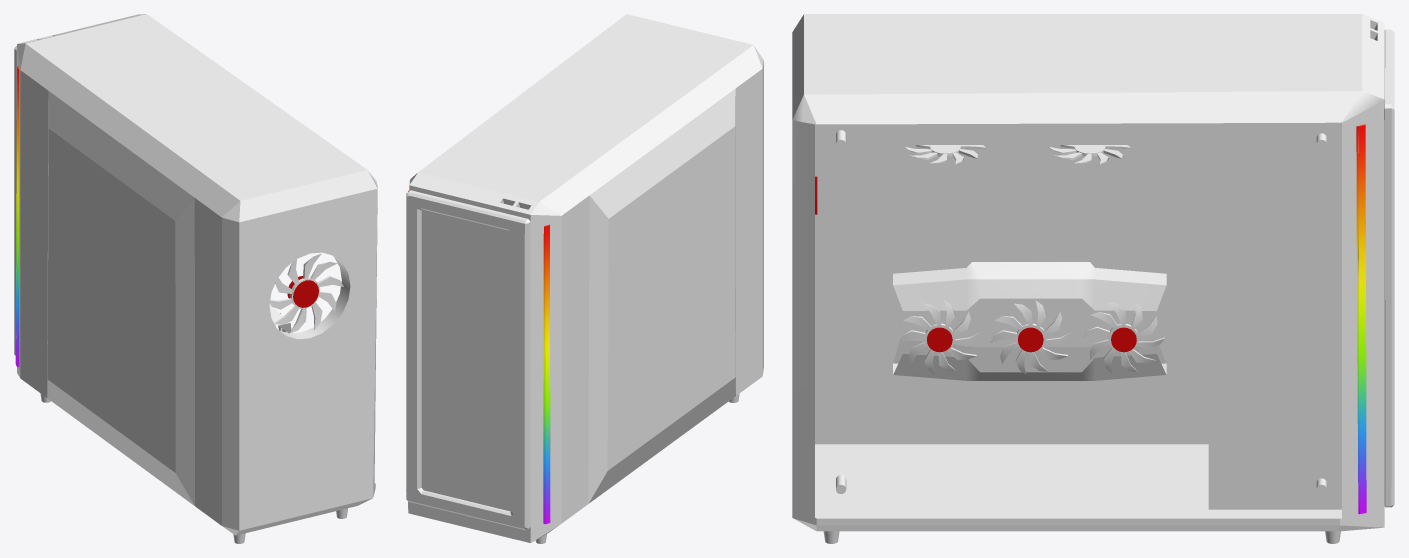
The model's file is chosen-cpu-case1.glb.
The picture shows the model from 3 angles, left to right: view 1: azimuth 30°, elevation 25°; view 2: azimuth 150°, elevation 25°; view 3: azimuth 270°, elevation 25°; orthographic projection. The views are drawn at different scales.
Visible parts, largest first — view 1: Object_18, Object_22, Object_33, Object_24, Object_17; view 2: Object_18, Object_9, Object_24, Object_33; view 3: Object_18, Object_38, Object_27, Object_22, Object_24, Object_33, Object_17.
Boxes of the visible parts, x1,y1,x2,y2 form: Object_18: (17, 14, 377, 535); Object_22: (270, 253, 343, 333); Object_33: (15, 66, 19, 366); Object_24: (14, 46, 16, 355); Object_17: (286, 276, 318, 332); Object_18: (408, 14, 763, 542); Object_9: (421, 209, 512, 511); Object_24: (406, 190, 530, 530); Object_33: (408, 190, 550, 524); Object_18: (792, 14, 1384, 531); Object_38: (815, 122, 1341, 509); Object_27: (893, 262, 1166, 380); Object_22: (899, 145, 1164, 374); Object_24: (1384, 29, 1394, 507); Object_33: (1356, 124, 1366, 514); Object_17: (815, 176, 1136, 352).
Size of the model in its own units: 0.3895 by 0.8003 by 0.9575.
13 materials, 1 textured.
